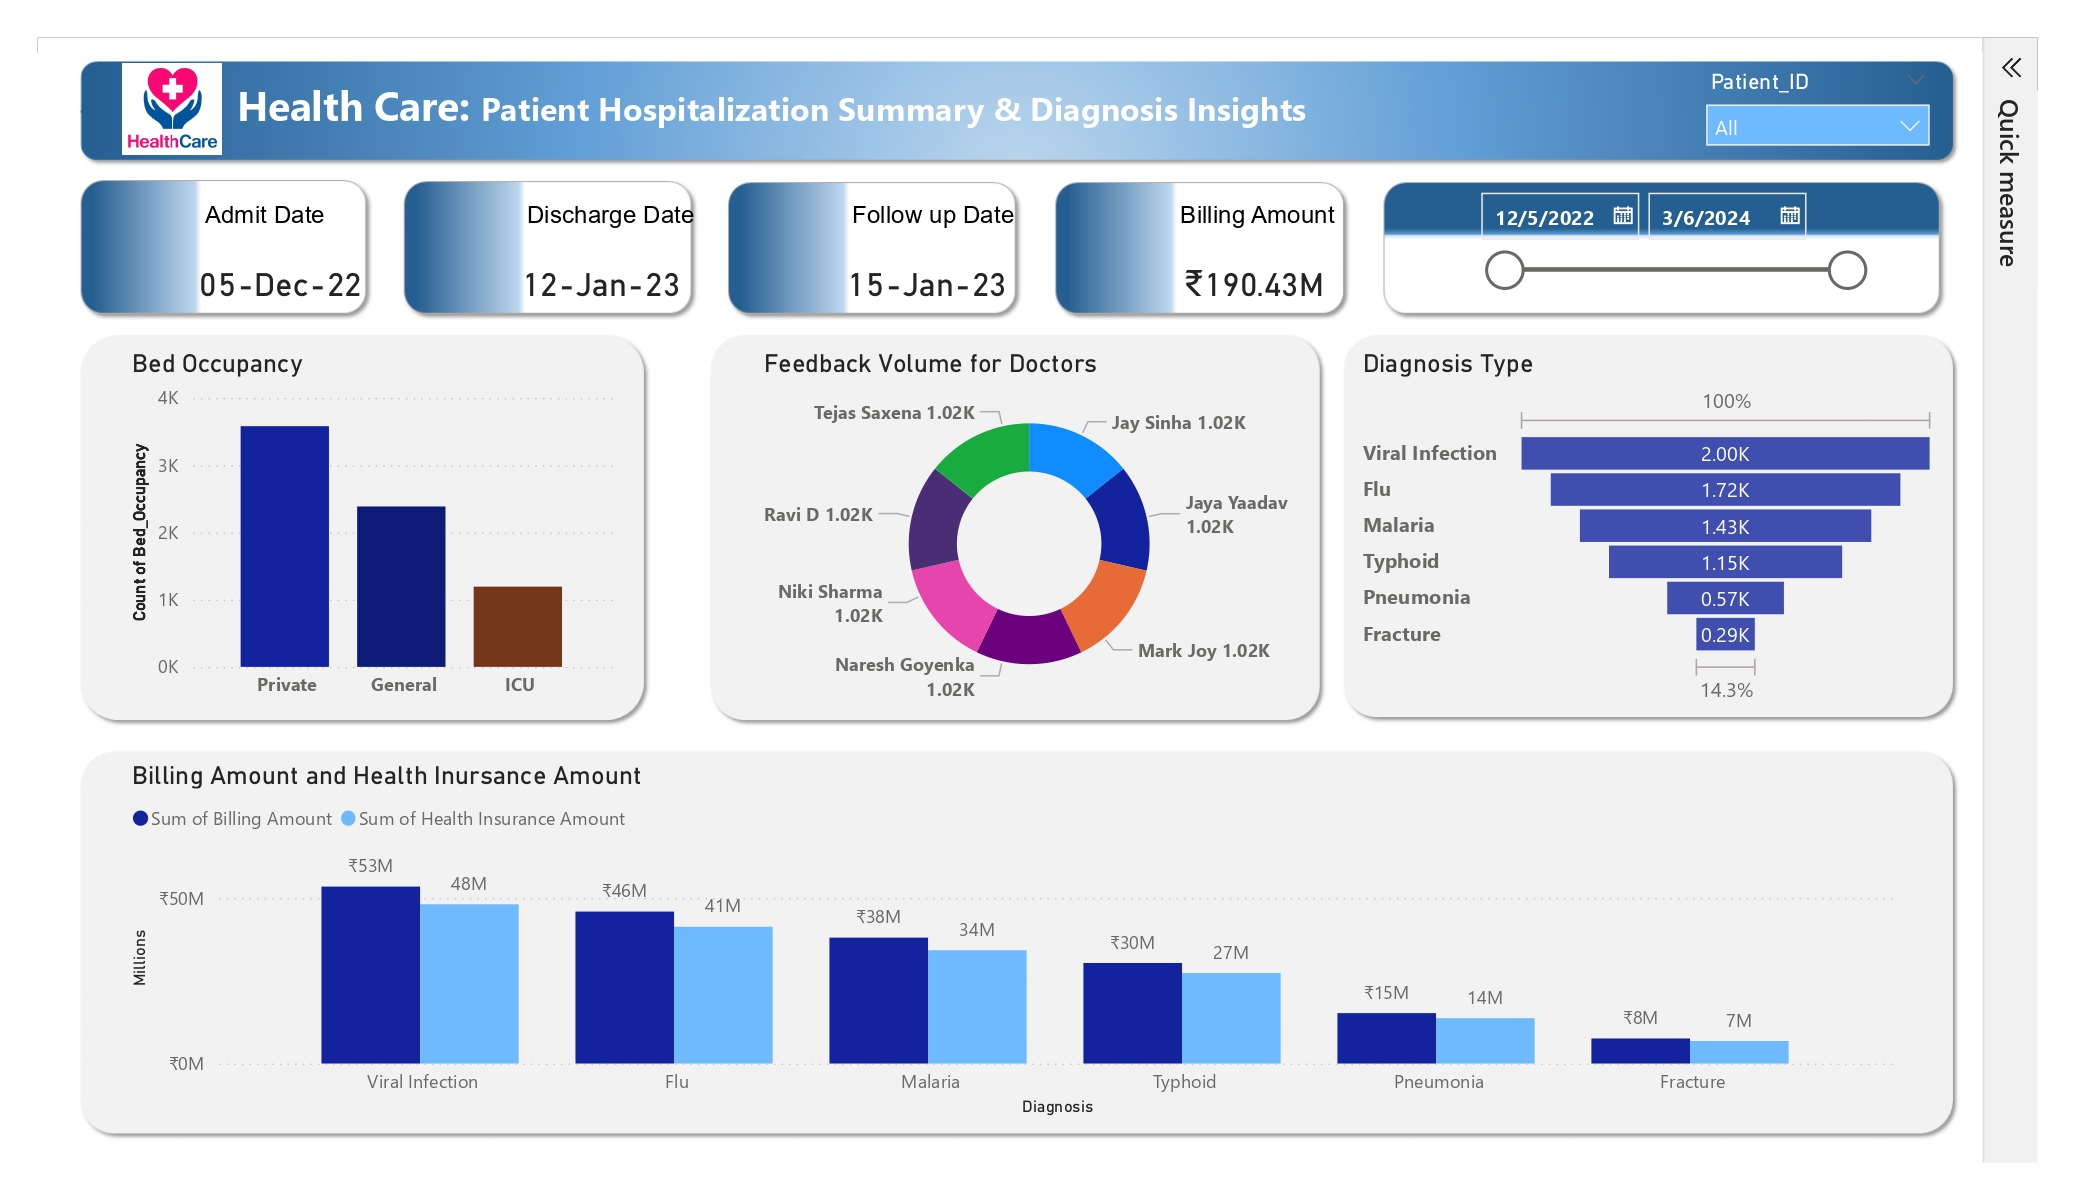

Layout of this report page (visuals, bound fields, positions):
{"tool":"powerbi","page":{"name":"Page 1","canvas":[1280,720],"ordinal":0},"visuals":[{"type":"image","box":[51.4,0,74.5,74.5],"z":0},{"type":"textbox","box":[125.9,10.6,735.1,52.3],"z":1000},{"type":"slicer","fields":{"Values":["Sheet1.Patient_ID"]},"box":[1088,6.2,166.7,61.2],"z":2000},{"type":"card","fields":{"Values":["Sheet1.Admit_Date"]},"box":[99.3,125.9,121.5,52.3],"z":3000},{"type":"card","fields":{"Values":["Sheet1.Followup Date"]},"box":[524.9,125.9,121.5,52.3],"z":4000},{"type":"card","fields":{"Values":["Sheet1.Discharge_Date"]},"box":[310.3,125.9,121.5,52.3],"z":5000},{"type":"textbox","box":[104.6,93.1,110.8,52.3],"z":6000},{"type":"textbox","box":[531.1,93.1,127.7,52.3],"z":7000},{"type":"textbox","box":[747.5,93.1,119.7,52.3],"z":8000},{"type":"textbox","box":[316.6,93.1,124.1,52.3],"z":9000},{"type":"card","fields":{"Values":["Sheet1.Billing Amount"]},"box":[739.5,125.9,121.5,52.3],"z":10000},{"type":"slicer","fields":{"Values":["Sheet1.Admit_Date"]},"box":[937.2,82.5,274.9,86.9],"z":11000},{"type":"columnChart","title":"Bed Occupancy","fields":{"Y":["Sheet1.Bed_Occupancy"],"Category":["Sheet1.Bed_Occupancy"]},"box":[56.7,194.2,327.2,239.4],"z":12000},{"type":"donutChart","title":"Feedback Volume for Doctors","fields":{"Category":["Sheet1.Doctor"],"Y":["Sheet1.Doctor"]},"box":[473.5,194.2,358.2,238.5],"z":13000},{"type":"funnel","title":"Diagnosis Type","fields":{"Category":["Sheet1.Diagnosis"],"Y":["Sheet1.Diagnosis"]},"box":[867.2,194.2,387.5,238.5],"z":14000},{"type":"clusteredColumnChart","title":" Billing Amount and Health Inursance Amount","fields":{"Category":["Sheet1.Diagnosis"],"Y":["Sheet1.Billing Amount","Sheet1.Health Insurance Amount"]},"box":[56.7,464.6,1171.3,239.4],"z":14001}]}

Visuals, with their boxes on the page's 1280x720 design canvas (x1, y1, x2, y2). These are canvas units, not pixel positions in the 2075x1200 screenshot, which may show the page scaled, cropped or inside an application window:
image: 51:0:126:74
textbox: 126:11:861:63
slicer - Sheet1.Patient_ID: 1088:6:1255:67
card - Sheet1.Admit_Date: 99:126:221:178
card - Sheet1.Followup Date: 525:126:646:178
card - Sheet1.Discharge_Date: 310:126:432:178
textbox: 105:93:215:145
textbox: 531:93:659:145
textbox: 748:93:867:145
textbox: 317:93:441:145
card - Sheet1.Billing Amount: 740:126:861:178
slicer - Sheet1.Admit_Date: 937:82:1212:169
"Bed Occupancy" columnChart: 57:194:384:434
"Feedback Volume for Doctors" donutChart: 474:194:832:433
"Diagnosis Type" funnel: 867:194:1255:433
" Billing Amount and Health Inursance Amount" clusteredColumnChart: 57:465:1228:704
